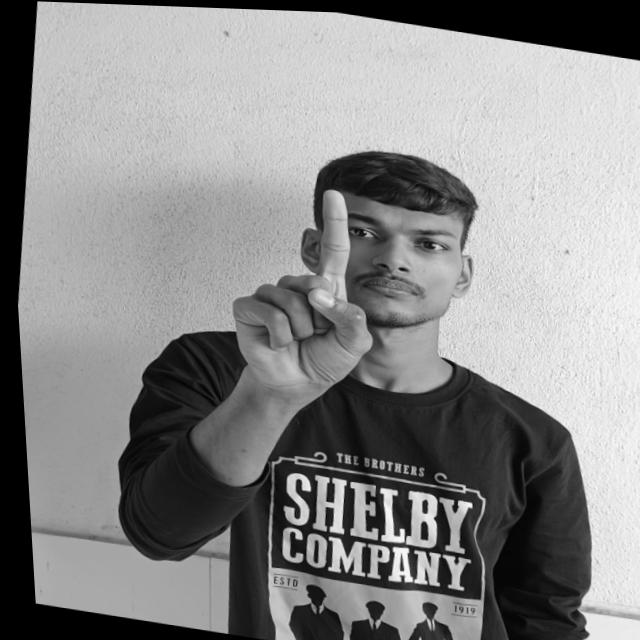Question: (217, 174, 386, 398)
